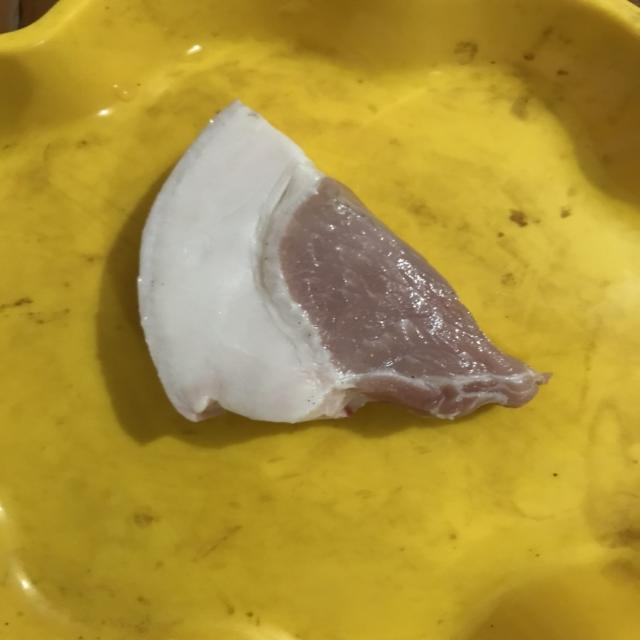chicken: (135, 100, 548, 430)
